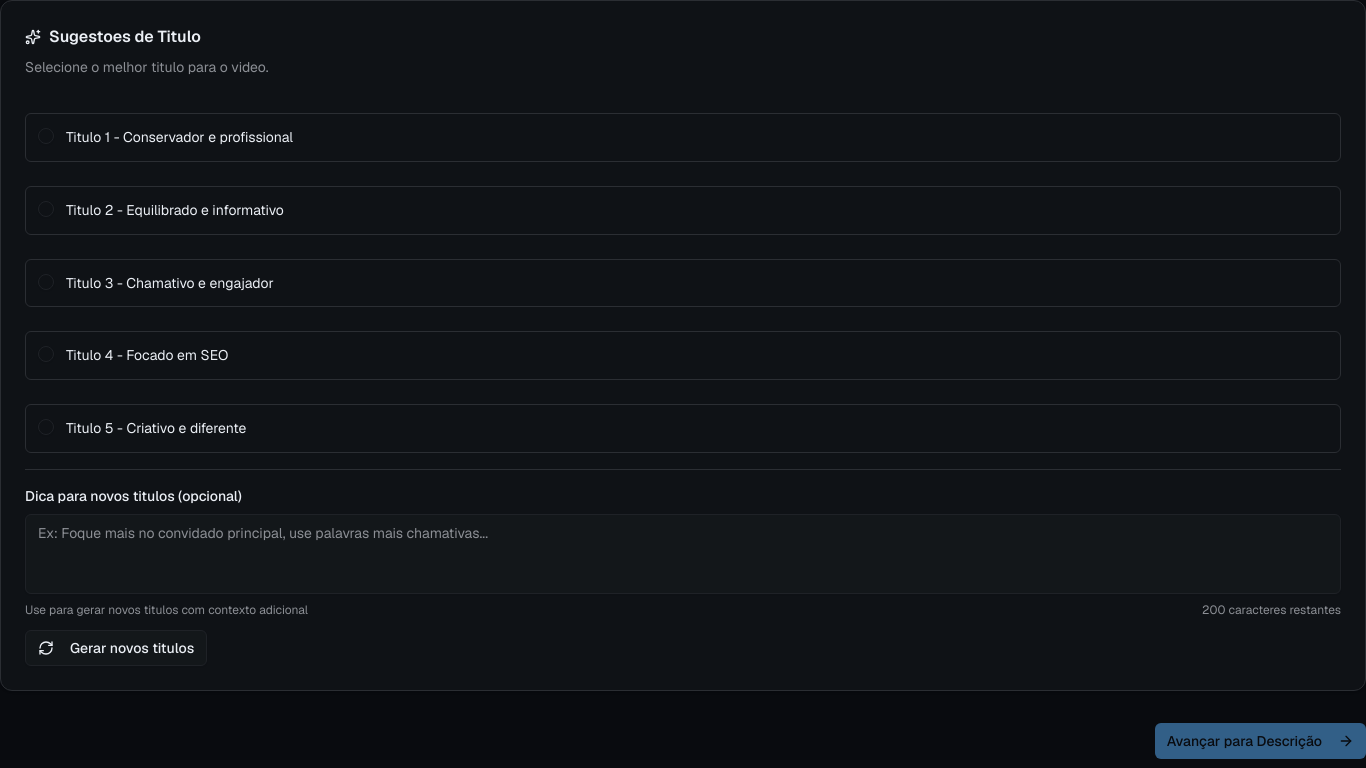
Test: Phase5Title › Revalidation › shows confirmation dialog when revalidate is clicked
Click the button "Gerar novos titulos" at (116, 648), box [25,630,207,666]
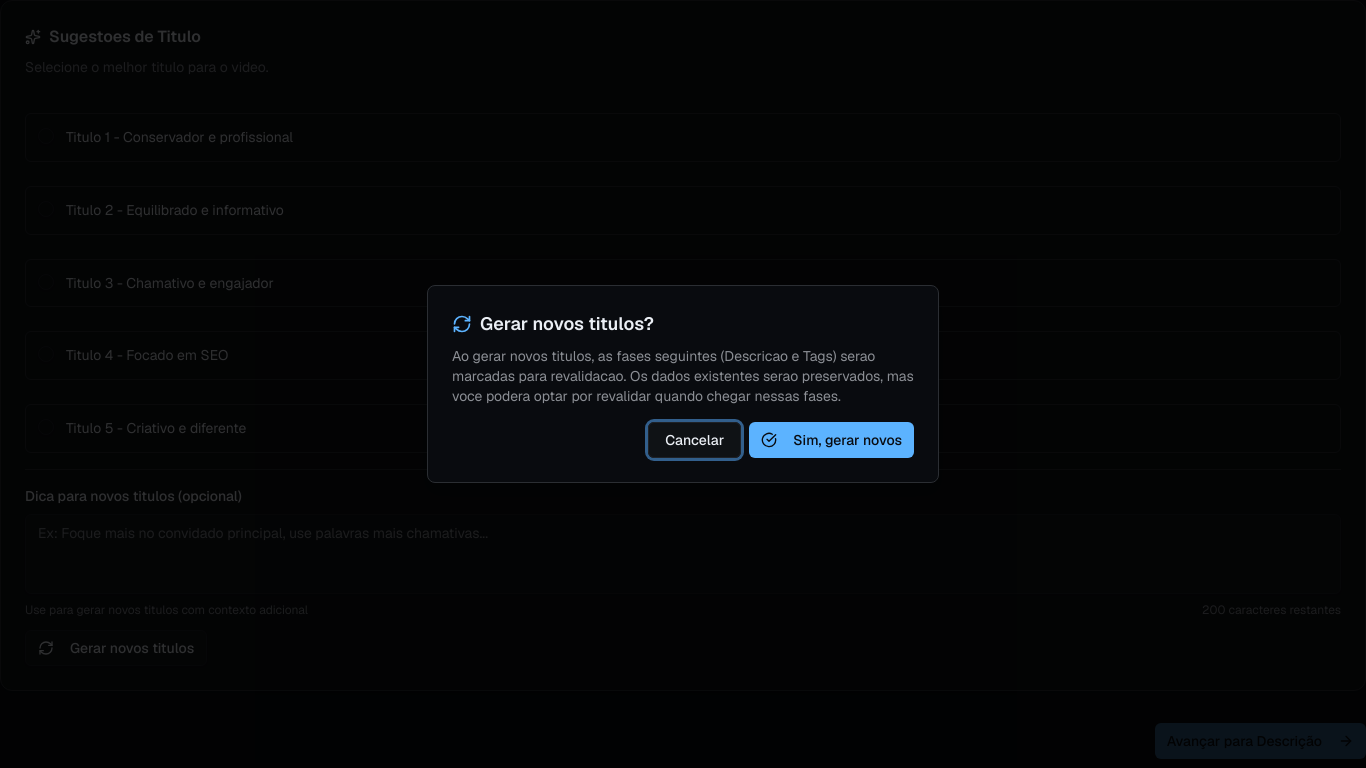
Check: the heading "Gerar novos titulos?" is shown, box [452,312,654,335]
